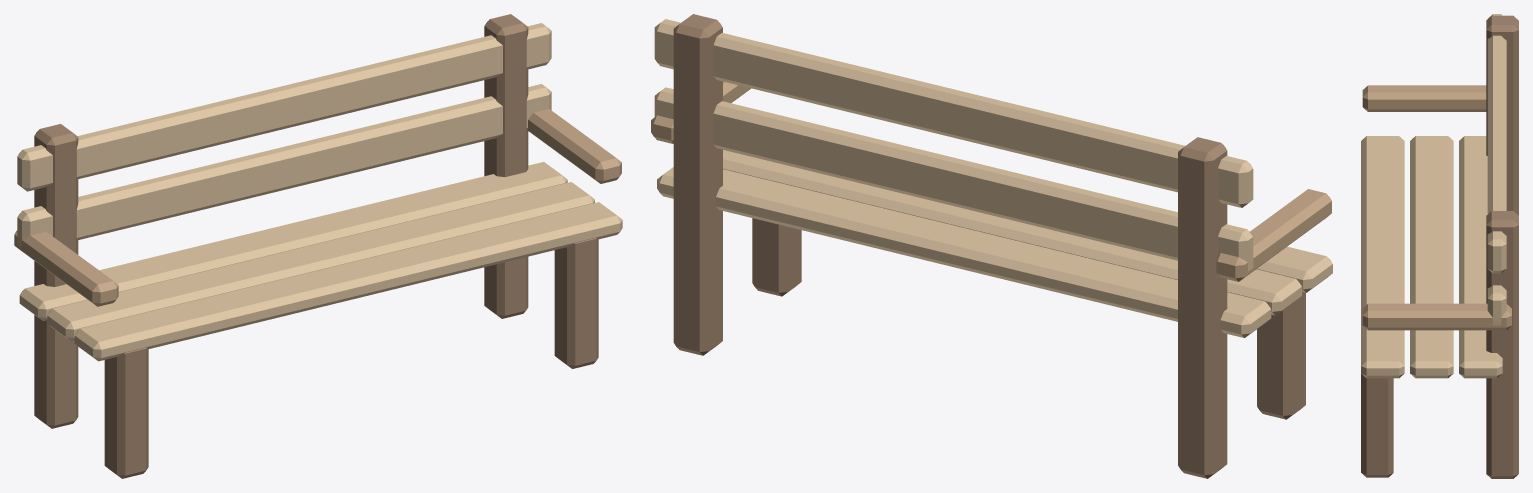
File: prop_bench.glb
The picture shows the model from 3 angles, left to right: view 1: azimuth 30°, elevation 25°; view 2: azimuth 150°, elevation 25°; view 3: azimuth 270°, elevation 25°; orthographic projection. The views are drawn at different scales.
Parts seen in each view (by area): view 1: prop_bench; view 2: prop_bench; view 3: prop_bench.
Boxes of the visible parts, x1,y1,x2,y2 form: prop_bench: (14, 14, 622, 478); prop_bench: (651, 14, 1332, 478); prop_bench: (1361, 14, 1518, 478).
Size of the model in its own units: 2 by 1.05 by 0.58.
